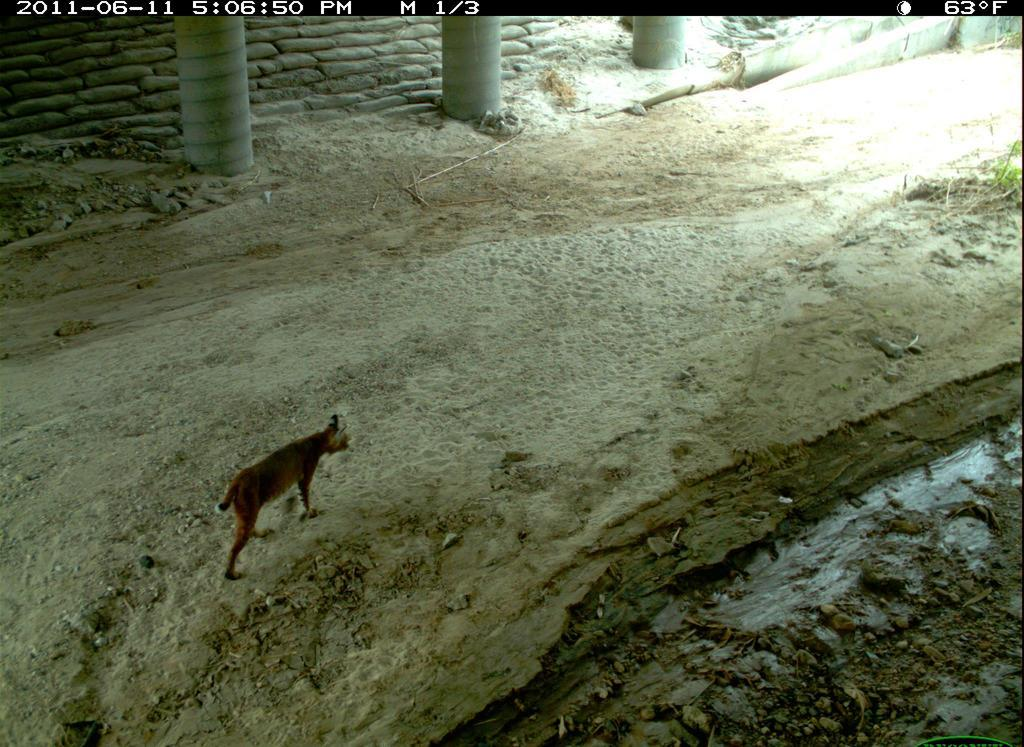bobcat: (217, 410, 355, 585)
